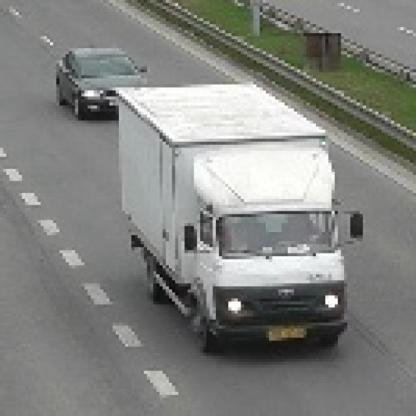truck: (117, 82, 364, 360)
